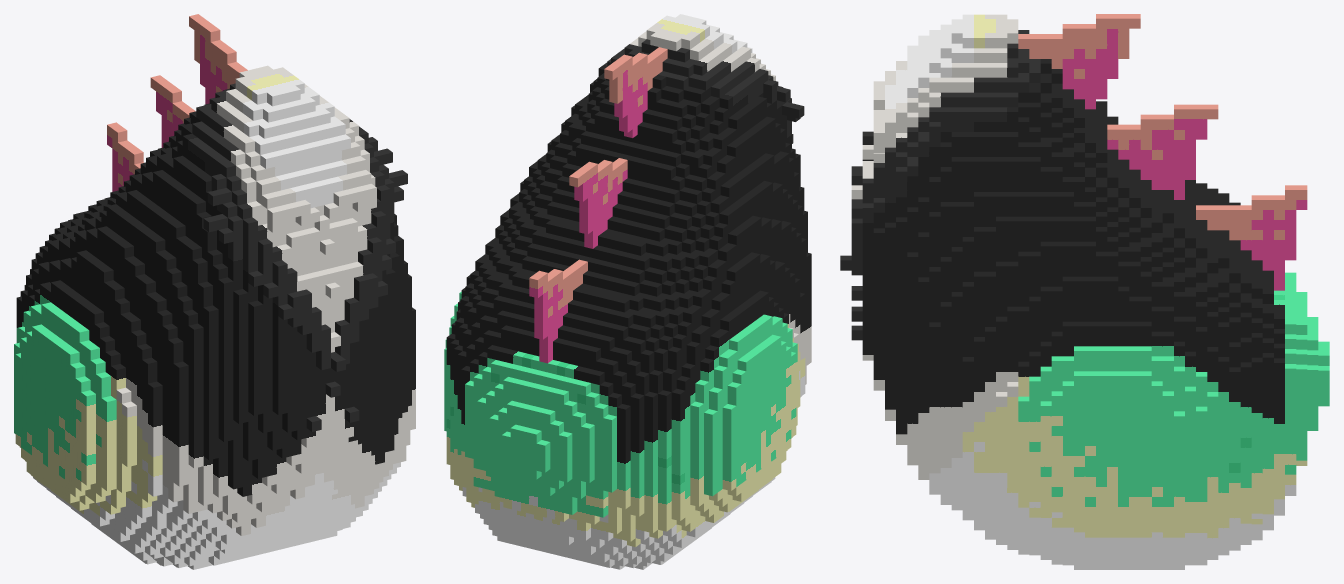
The model's file is suit.gltf.
3 renders of one model, left to right at view 1: azimuth 30°, elevation 25°; view 2: azimuth 150°, elevation 25°; view 3: azimuth 270°, elevation 25°, orthographic. The views are drawn at different scales.
Visible parts, largest first — view 1: 06_Body_Suit-Mesh; view 2: 06_Body_Suit-Mesh; view 3: 06_Body_Suit-Mesh.
Boxes of the visible parts, x1,y1,x2,y2 form: 06_Body_Suit-Mesh: (14, 14, 415, 569); 06_Body_Suit-Mesh: (444, 14, 811, 569); 06_Body_Suit-Mesh: (840, 14, 1329, 569).
Size of the model in its own units: 33 by 51 by 44.
Materials: 1 (1 with a texture image).
